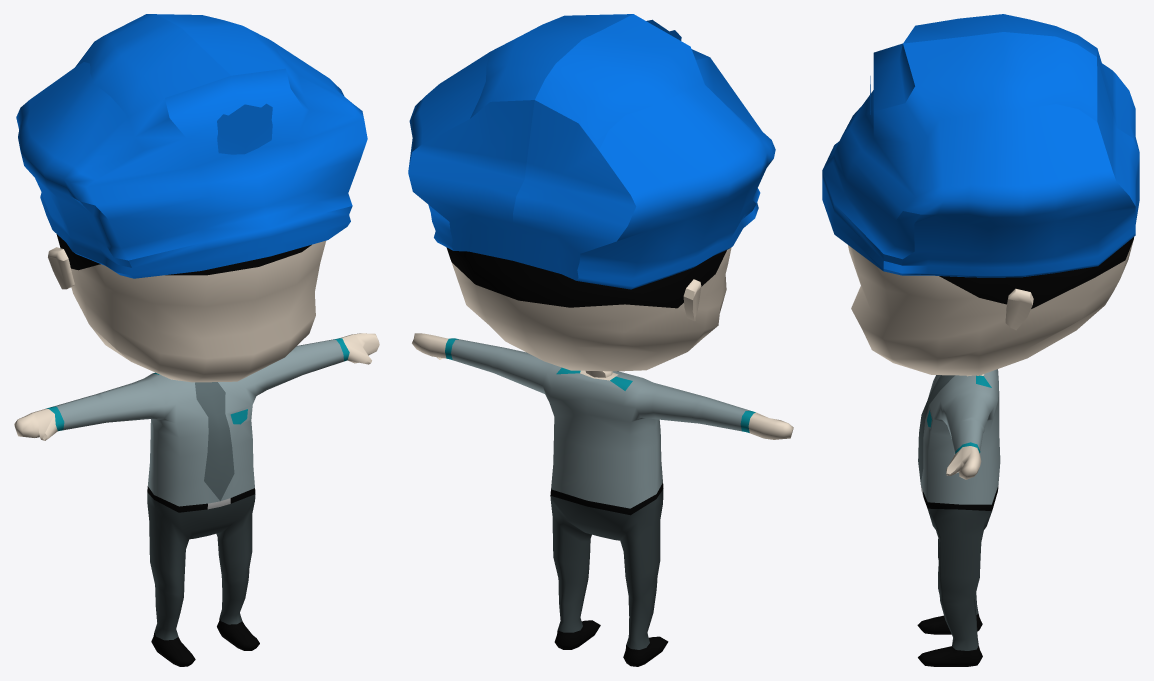
File: patrol_guard.fbx
The picture shows the model from 3 angles, left to right: view 1: azimuth 30°, elevation 25°; view 2: azimuth 150°, elevation 25°; view 3: azimuth 270°, elevation 25°; orthographic projection. The views are drawn at different scales.
Parts seen in each view (by area): view 1: patrol_hat, patrol_guard; view 2: patrol_hat, patrol_guard; view 3: patrol_hat, patrol_guard.
Boxes of the visible parts, left/top/right/bottom form: patrol_hat: left=16, top=14, right=367, bottom=278; patrol_guard: left=14, top=234, right=379, bottom=666; patrol_hat: left=408, top=14, right=775, bottom=289; patrol_guard: left=412, top=247, right=793, bottom=666; patrol_hat: left=822, top=14, right=1139, bottom=277; patrol_guard: left=848, top=237, right=1133, bottom=666.
Size of the model in its own units: 132 by 209 by 97.74.
